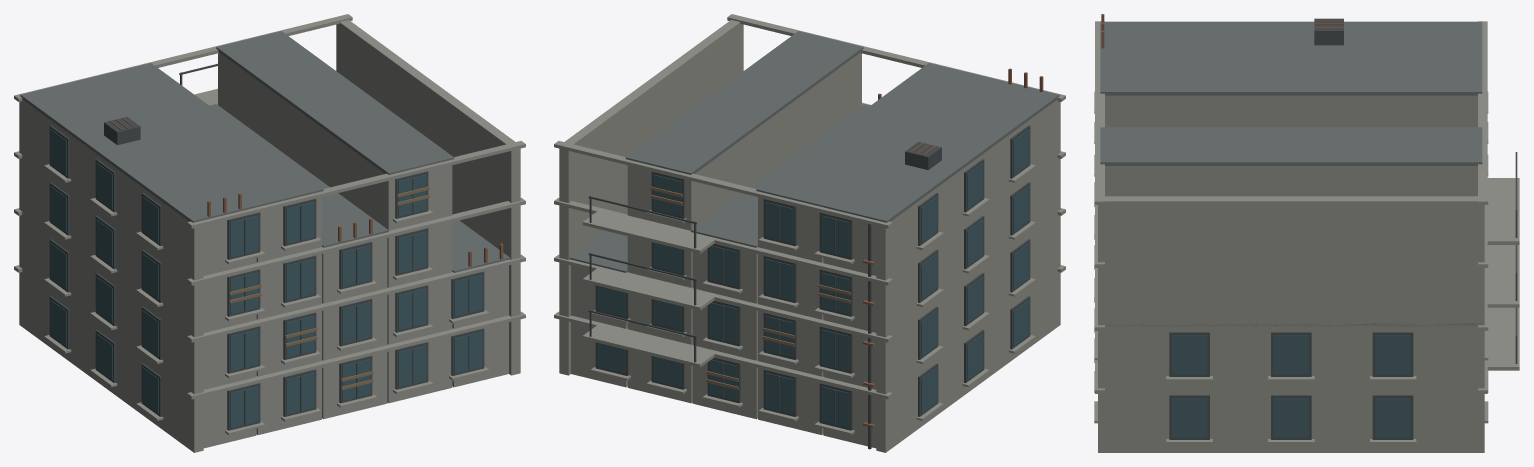
Rendered from Ville_Batiment_10.fbx.
3 views of the same model, side by side, from view 1: azimuth 30°, elevation 25°; view 2: azimuth 150°, elevation 25°; view 3: azimuth 270°, elevation 25° (orthographic). The views are drawn at different scales.
Parts seen in each view (by area): view 1: Ville_Batiment_10_concrete, Ville_Batiment_10_concrete_dark, Ville_Batiment_10_glass, Ville_Batiment_10_iron, Ville_Batiment_10_wood, Ville_Batiment_10_rust; view 2: Ville_Batiment_10_concrete, Ville_Batiment_10_concrete_dark, Ville_Batiment_10_glass, Ville_Batiment_10_iron, Ville_Batiment_10_wood, Ville_Batiment_10_rust; view 3: Ville_Batiment_10_concrete, Ville_Batiment_10_concrete_dark, Ville_Batiment_10_glass, Ville_Batiment_10_iron.
Part boxes in pixels (box(x1,y1,x2,y2)): Ville_Batiment_10_concrete: box(14, 14, 525, 452); Ville_Batiment_10_concrete_dark: box(20, 31, 510, 272); Ville_Batiment_10_glass: box(50, 129, 482, 428); Ville_Batiment_10_iron: box(49, 63, 484, 430); Ville_Batiment_10_wood: box(229, 186, 429, 389); Ville_Batiment_10_rust: box(109, 117, 503, 266); Ville_Batiment_10_concrete: box(554, 14, 1065, 452); Ville_Batiment_10_concrete_dark: box(569, 31, 1059, 272); Ville_Batiment_10_glass: box(597, 129, 1029, 428); Ville_Batiment_10_iron: box(588, 125, 1030, 449); Ville_Batiment_10_wood: box(650, 186, 850, 389); Ville_Batiment_10_rust: box(863, 68, 1043, 427); Ville_Batiment_10_concrete: box(1094, 21, 1519, 452); Ville_Batiment_10_concrete_dark: box(1100, 21, 1482, 326); Ville_Batiment_10_glass: box(1172, 335, 1410, 437); Ville_Batiment_10_iron: box(1169, 18, 1517, 439).
Bounding box in the file's own units: 43.56 × 30.2 × 42.85.
